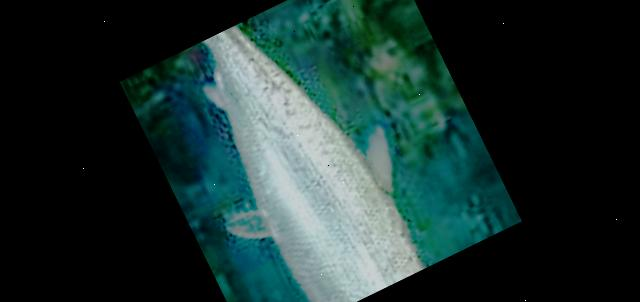Healthy Fish: (196, 25, 424, 302)
